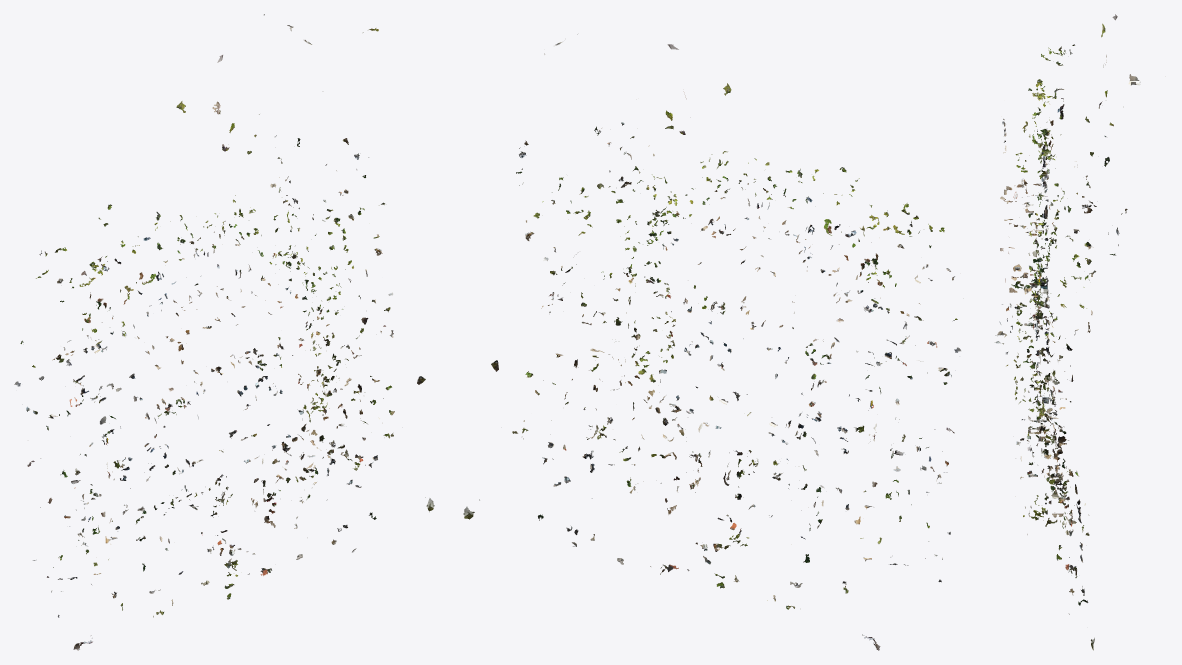
The model's file is tile_5.glb.
3 renders of one model, left to right at view 1: azimuth 30°, elevation 25°; view 2: azimuth 150°, elevation 25°; view 3: azimuth 270°, elevation 25°, orthographic. The views are drawn at different scales.
Bounding box in the file's own units: 209 × 248 × 66.52.
Materials: 6 (6 with a texture image).
